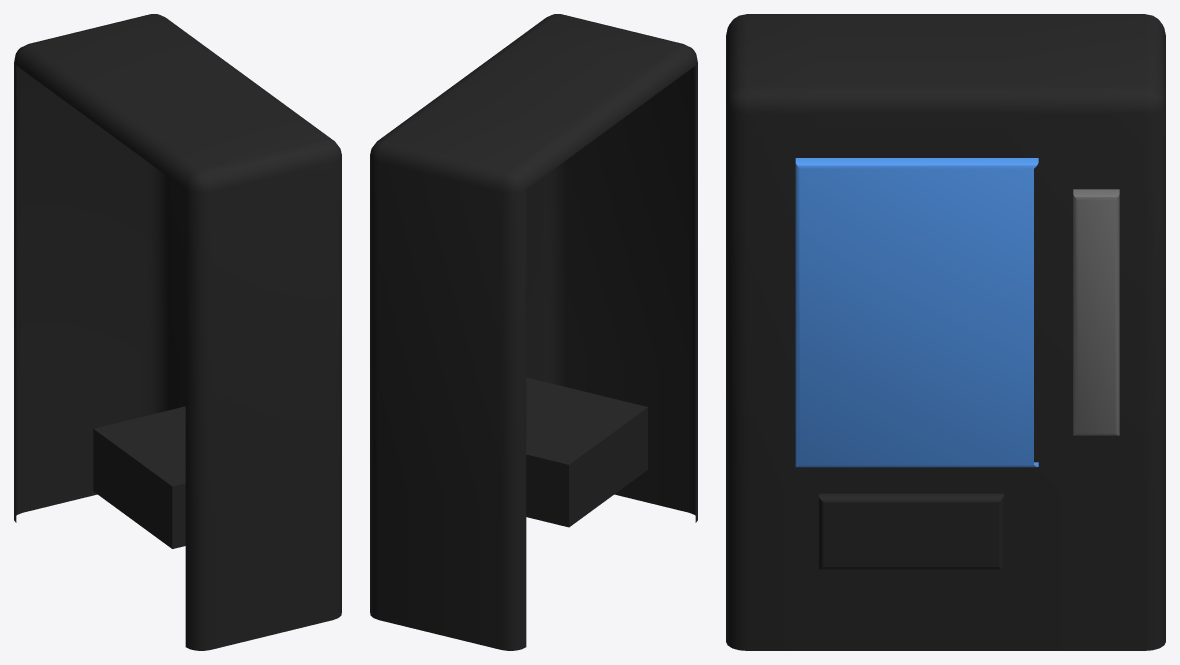
Rendered from VendingMachinaMouthGoOpen_RB.fbx.
3 views of the same model, side by side, from view 1: azimuth 30°, elevation 25°; view 2: azimuth 150°, elevation 25°; view 3: azimuth 270°, elevation 25° (orthographic). The views are drawn at different scales.
Visible parts, largest first — view 1: VendingmachineWORKINGDOORBlockout_RB; view 2: VendingmachineWORKINGDOORBlockout_RB; view 3: VendingmachineWORKINGDOORBlockout_RB, Vendingmachinemouth.
Part boxes in pixels (x1,y1,x2,y2): VendingmachineWORKINGDOORBlockout_RB: (14,14,341,650); VendingmachineWORKINGDOORBlockout_RB: (370,14,697,650); VendingmachineWORKINGDOORBlockout_RB: (726,14,1165,650); Vendingmachinemouth: (818,493,1003,569).
Bounding box in the file's own units: 194 × 530 × 380.
